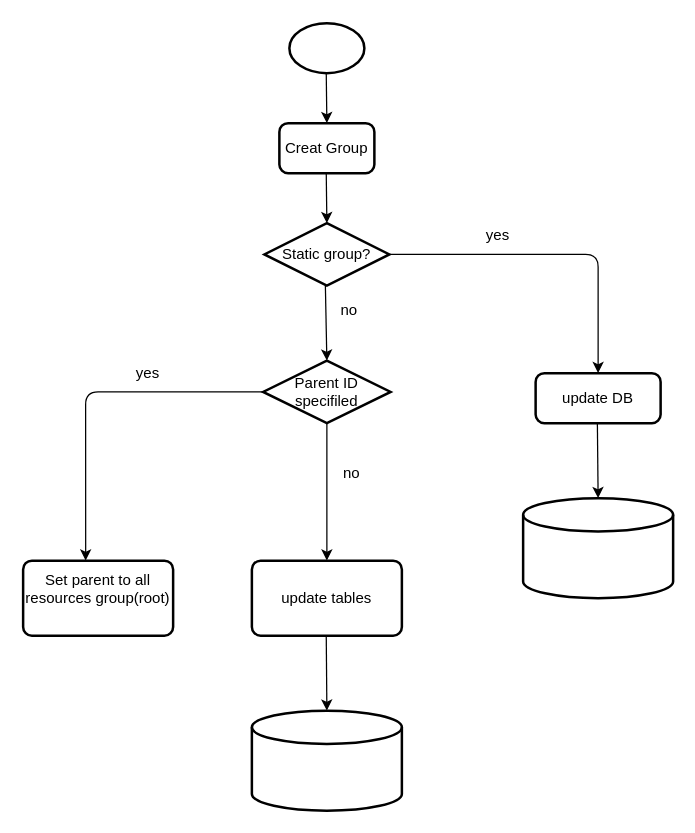
The diagram is 695 pixels wide and 833 high, and some of its shapes have lost their labels. Here are the shapes that lost their labels. From the top down, the centre of each, then its label:
At (x=326, y=47): "start".
At (x=597, y=547): "group table".
At (x=326, y=760): "1. group table 2. group assiociation table".
